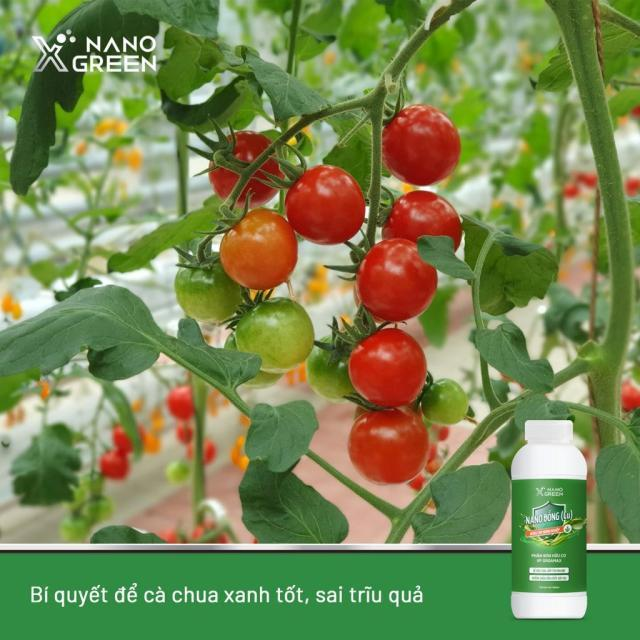kirmizi: (346, 326, 440, 492), (382, 102, 460, 188), (308, 162, 362, 242)
yesil: (230, 284, 320, 392)
